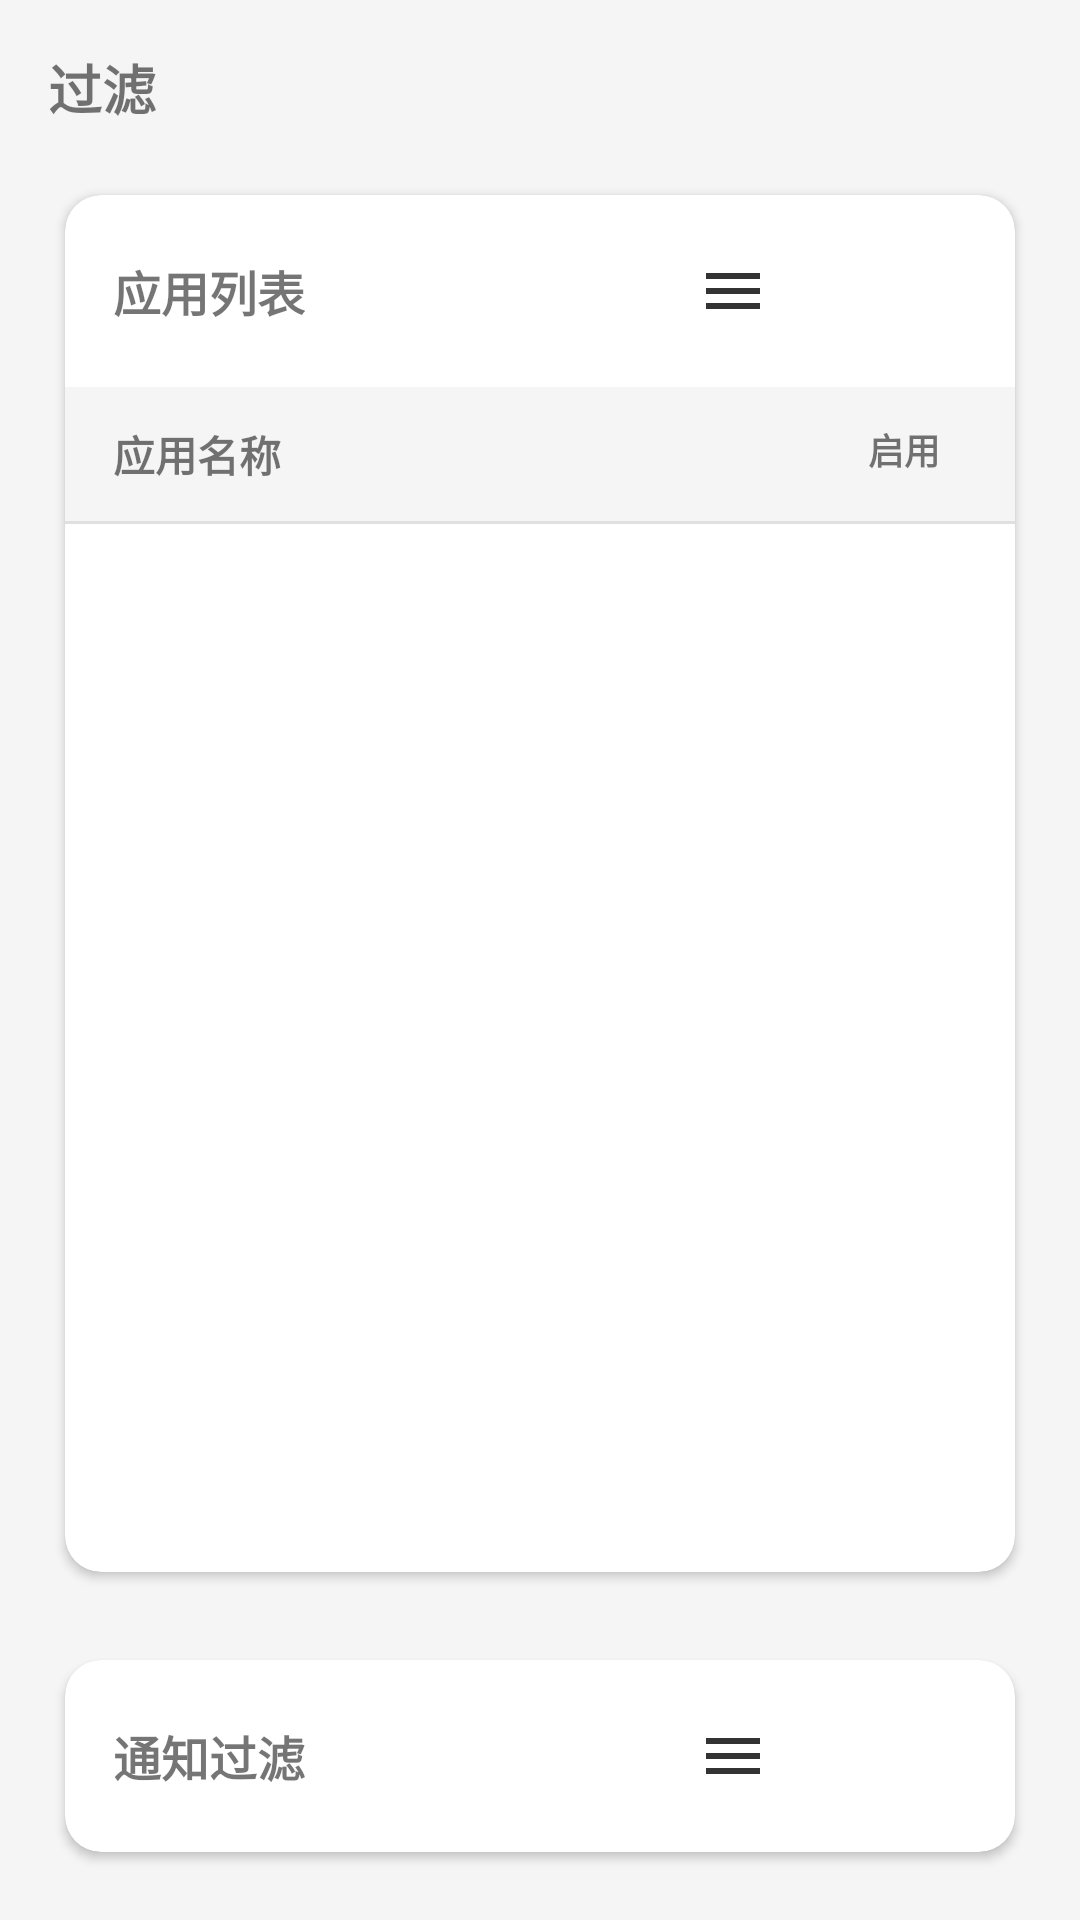

Point at icon controls on the screen. Image size 1080*1920, points as (x=x, y=y).
menu: (x=733, y=291), (x=733, y=1756)
